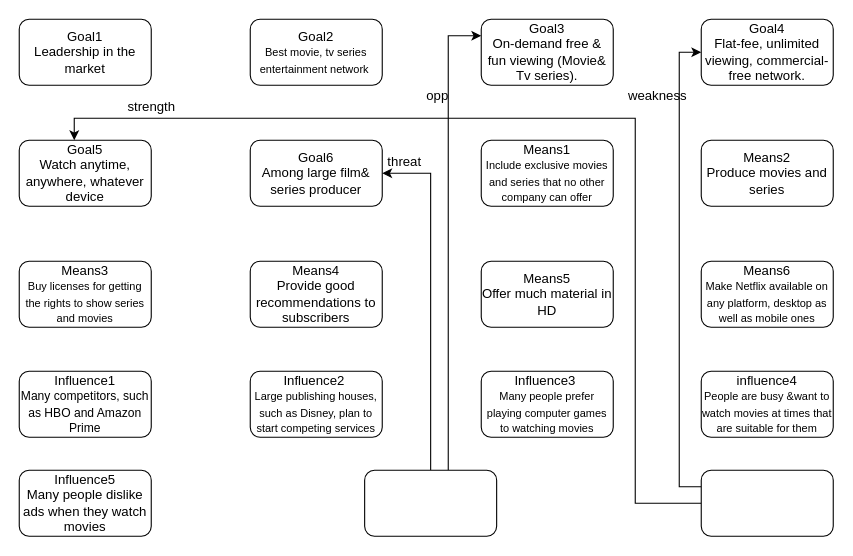
Image size: 853x556. Some labels were removed from this diagram. The box of each missing label's shape, as (x1, y1, x2, y2) in pixels:
Influence6 People want to watch the latest Hollywood movies as soon as possible: (364, 469, 497, 536)
Influence7 Over $1 billion on technology & development in 2017 .: (700, 469, 833, 536)
